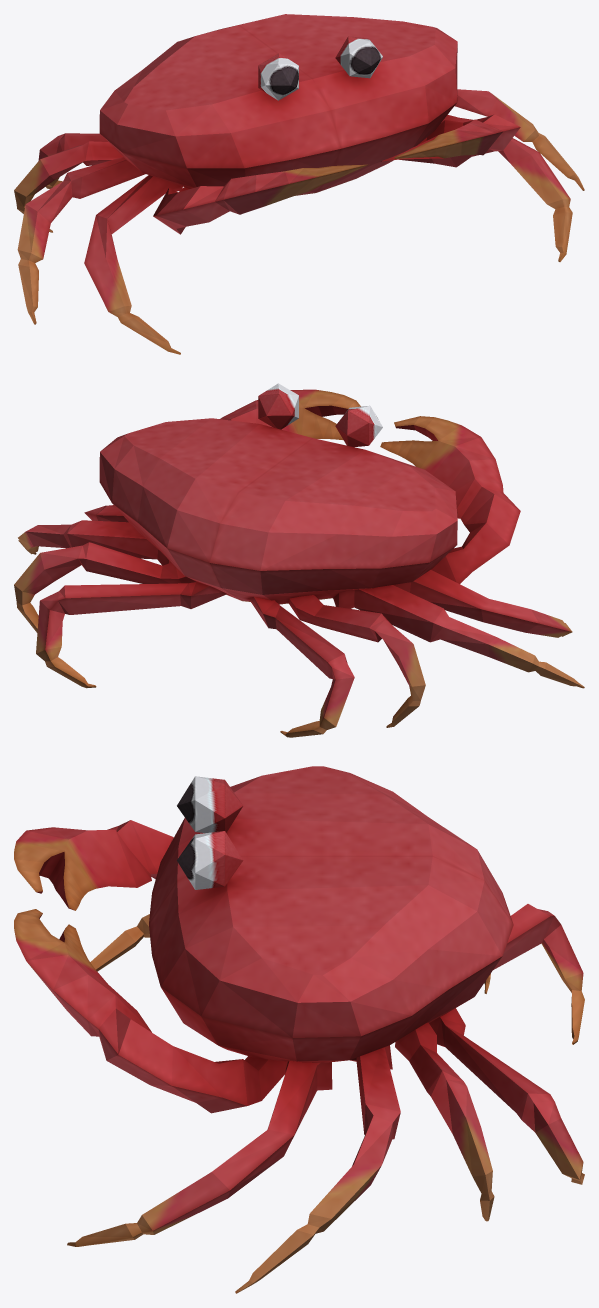
File: Crab_01.FBX
3 views of the same model, one above another, from view 1: azimuth 30°, elevation 25°; view 2: azimuth 150°, elevation 25°; view 3: azimuth 270°, elevation 25° (orthographic). The views are drawn at different scales.
Visible parts, largest first — view 1: Crab_01, Crab_Right_First_Leg_01, Crab_Right_Second_Leg_01, Crab_Right_Third_Leg_01, Crab_Left_First_Leg_01, Crab_Left_Second_Leg_01, Crab_Right_Four_Leg_01, Crab_Left_Third_Leg_01, Crab_Right_Eye_01, Crab_Left_Eye_01, Crab_Right_Five_Leg_01; view 2: Crab_01, Crab_Right_First_Leg_01, Crab_Left_Five_Leg_01, Crab_Right_Third_Leg_01, Crab_Left_Four_Leg_01, Crab_Right_Four_Leg_01, Crab_Right_Five_Leg_01, Crab_Right_Second_Leg_01, Crab_Left_Third_Leg_01, Crab_Left_First_Leg_01, Crab_Left_Eye_01, Crab_Right_Eye_01 (+1 smaller); view 3: Crab_01, Crab_Left_First_Leg_01, Crab_Right_First_Leg_01, Crab_Left_Second_Leg_01, Crab_Left_Third_Leg_01, Crab_Left_Five_Leg_01, Crab_Left_Four_Leg_01, Crab_Right_Five_Leg_01, Crab_Left_Eye_01, Crab_Right_Eye_01, Crab_Right_Second_Leg_01.
Boxes of the visible parts, x1,y1,x2,y2 form: Crab_01: (99, 14, 457, 195); Crab_Right_First_Leg_01: (153, 164, 368, 234); Crab_Right_Second_Leg_01: (84, 175, 182, 354); Crab_Right_Third_Leg_01: (17, 157, 145, 324); Crab_Left_First_Leg_01: (381, 114, 520, 167); Crab_Left_Second_Leg_01: (441, 115, 572, 261); Crab_Right_Four_Leg_01: (14, 141, 122, 232); Crab_Left_Third_Leg_01: (454, 89, 584, 190); Crab_Right_Eye_01: (258, 53, 298, 100); Crab_Left_Eye_01: (335, 36, 382, 78); Crab_Right_Five_Leg_01: (38, 133, 107, 188); Crab_01: (99, 418, 457, 604); Crab_Right_First_Leg_01: (380, 416, 520, 583); Crab_Left_Five_Leg_01: (36, 582, 226, 688); Crab_Right_Third_Leg_01: (333, 585, 584, 688); Crab_Left_Four_Leg_01: (14, 542, 196, 632); Crab_Right_Four_Leg_01: (288, 595, 425, 727); Crab_Right_Five_Leg_01: (249, 597, 354, 737); Crab_Right_Second_Leg_01: (393, 570, 572, 637); Crab_Left_Third_Leg_01: (18, 520, 171, 565); Crab_Left_First_Leg_01: (220, 389, 360, 440); Crab_Left_Eye_01: (258, 383, 298, 429); Crab_Right_Eye_01: (335, 405, 382, 447); Crab_01: (149, 766, 513, 1062); Crab_Left_First_Leg_01: (14, 909, 287, 1113); Crab_Right_First_Leg_01: (14, 820, 173, 910); Crab_Left_Second_Leg_01: (67, 1061, 332, 1246); Crab_Left_Third_Leg_01: (235, 1045, 400, 1293); Crab_Left_Five_Leg_01: (429, 1008, 584, 1184); Crab_Left_Four_Leg_01: (395, 1022, 494, 1221); Crab_Right_Five_Leg_01: (493, 904, 584, 1044); Crab_Left_Eye_01: (177, 831, 243, 889); Crab_Right_Eye_01: (177, 776, 242, 833); Crab_Right_Second_Leg_01: (90, 914, 149, 971).
Size of the model in its own units: 9.54 by 3.68 by 6.16.
